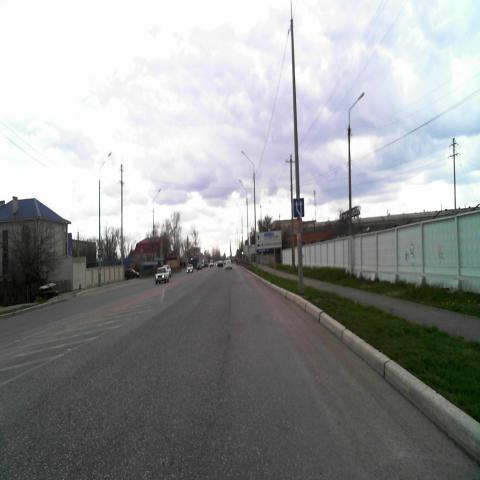5_15_3: (293, 198, 304, 218)
